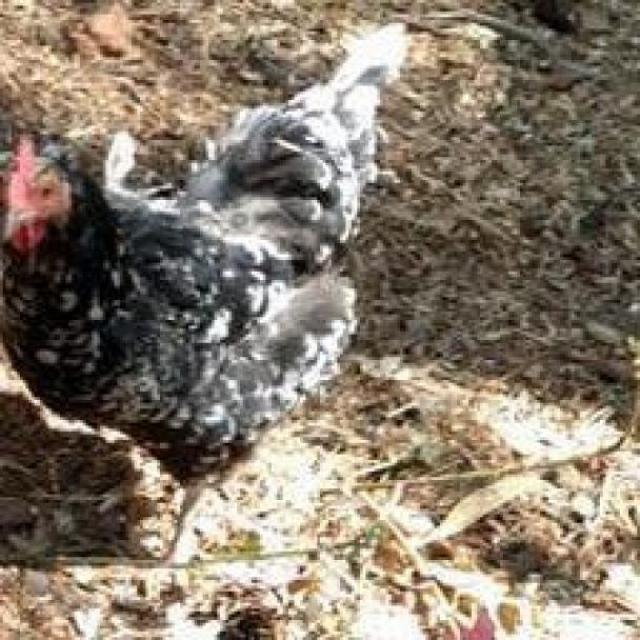Chicken: (0, 21, 429, 577)
